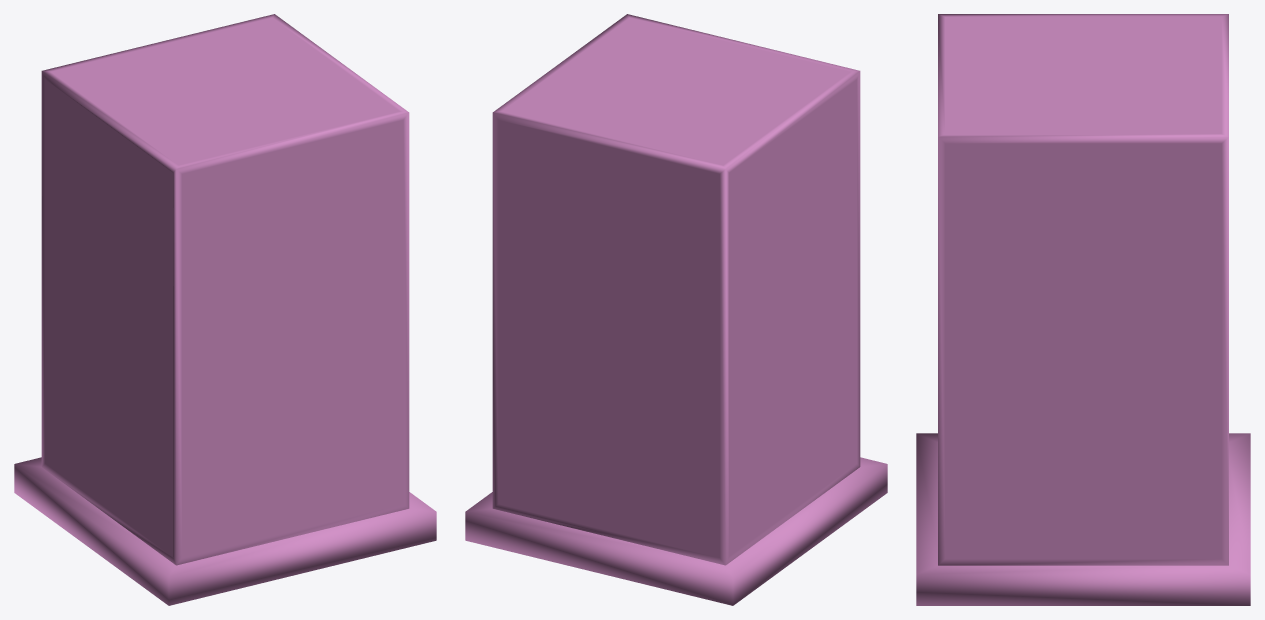
The model's file is GlassBox.fbx.
3 views of the same model, side by side, from view 1: azimuth 30°, elevation 25°; view 2: azimuth 150°, elevation 25°; view 3: azimuth 270°, elevation 25° (orthographic). The views are drawn at different scales.
Parts seen in each view (by area): view 1: GrassBox2_low, GrassBox1_low; view 2: GrassBox2_low, GrassBox1_low; view 3: GrassBox2_low, GrassBox1_low.
Part boxes in pixels (x1,y1,x2,y2): GrassBox2_low: [41, 14, 409, 565]; GrassBox1_low: [14, 457, 436, 605]; GrassBox2_low: [492, 14, 860, 565]; GrassBox1_low: [465, 457, 887, 605]; GrassBox2_low: [938, 14, 1228, 565]; GrassBox1_low: [916, 433, 1250, 605].
Bounding box in the file's own units: 26.82 × 40.67 × 26.82.
